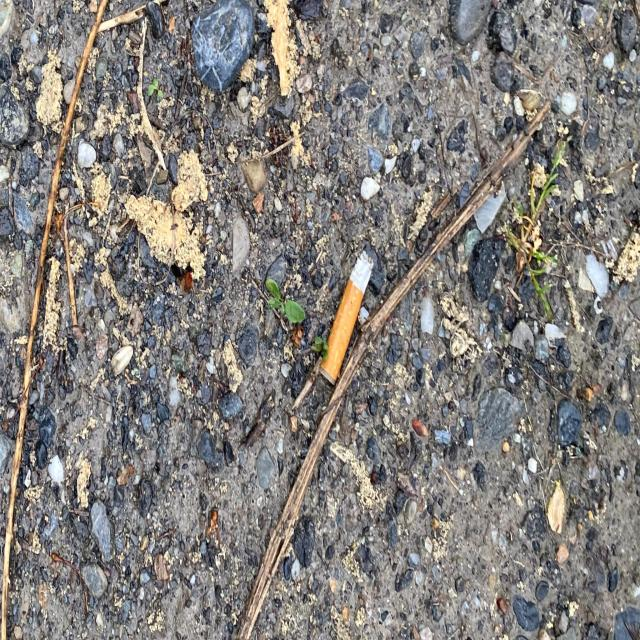other waste: (318, 253, 374, 387)
